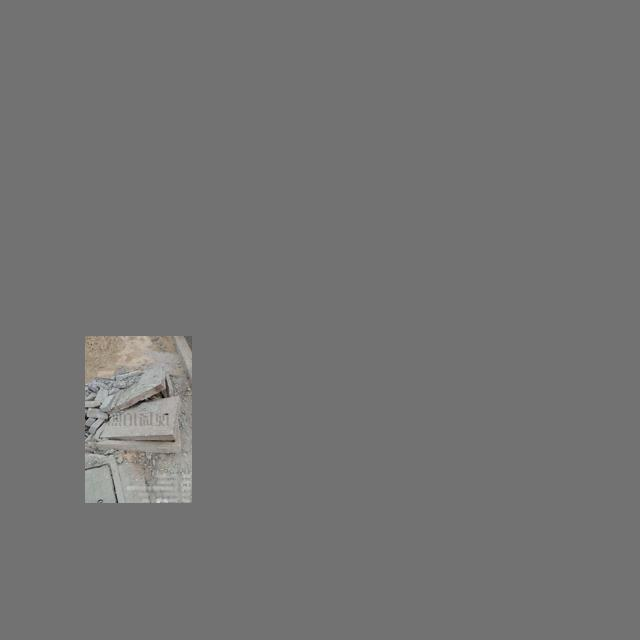uncovered: (96, 364, 182, 452)
